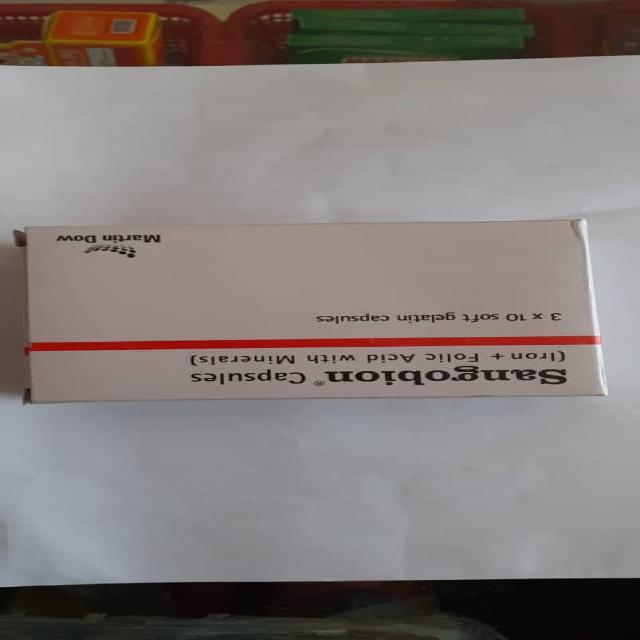drug-name: (324, 368, 575, 384)
